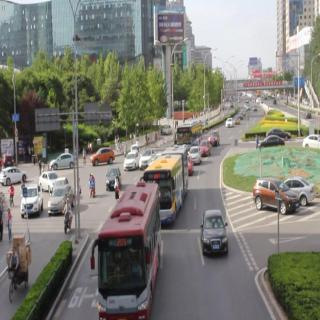Car: (99, 175, 162, 320), (143, 150, 193, 217), (257, 170, 297, 231), (280, 164, 320, 209), (47, 175, 76, 220), (202, 204, 227, 256), (258, 116, 295, 144), (176, 115, 203, 149), (1, 162, 28, 195), (20, 186, 45, 221), (257, 130, 288, 155), (102, 161, 124, 193), (92, 147, 115, 169), (49, 156, 80, 171), (40, 169, 62, 190), (126, 147, 142, 172), (198, 139, 216, 161), (306, 134, 320, 162), (192, 142, 207, 167), (141, 147, 156, 167), (4, 150, 16, 171), (209, 130, 222, 146), (226, 115, 239, 130)
